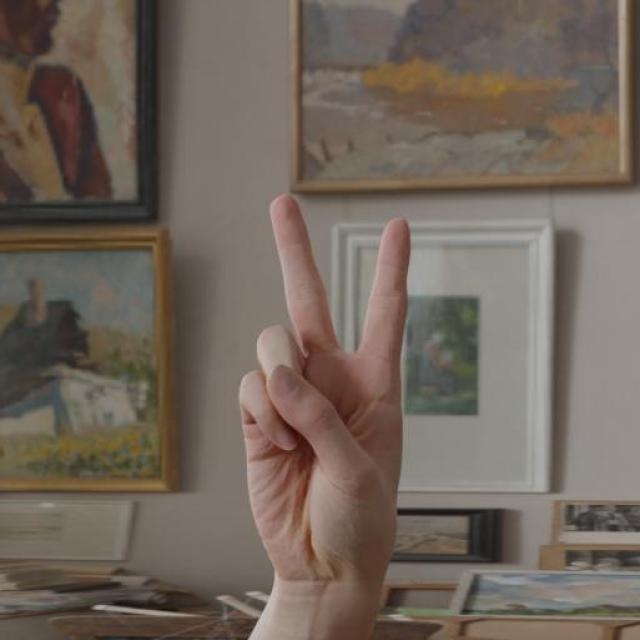V: (234, 187, 416, 585)
